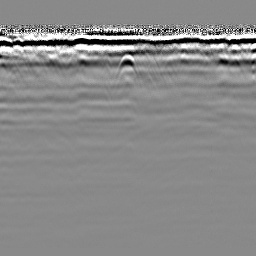cavity: (115, 54, 140, 81)
